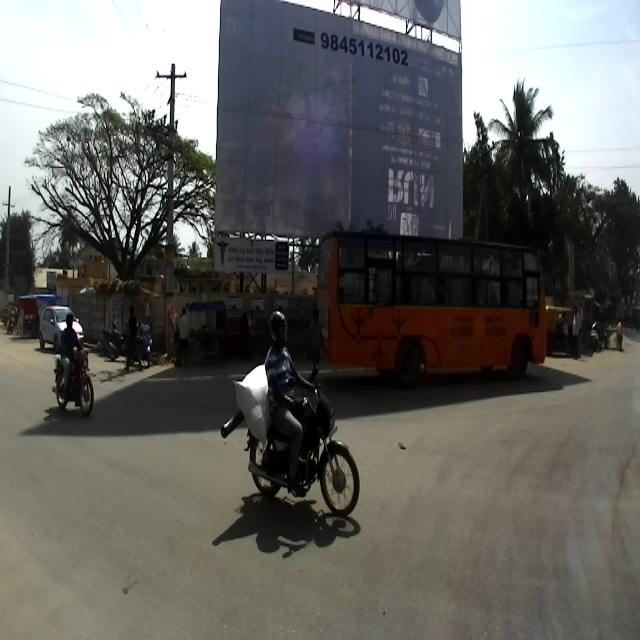Dog ahead at: (46, 351, 106, 422)
bus ahead at: (304, 230, 560, 395)
motorcycle ahead at: (244, 389, 362, 523)
